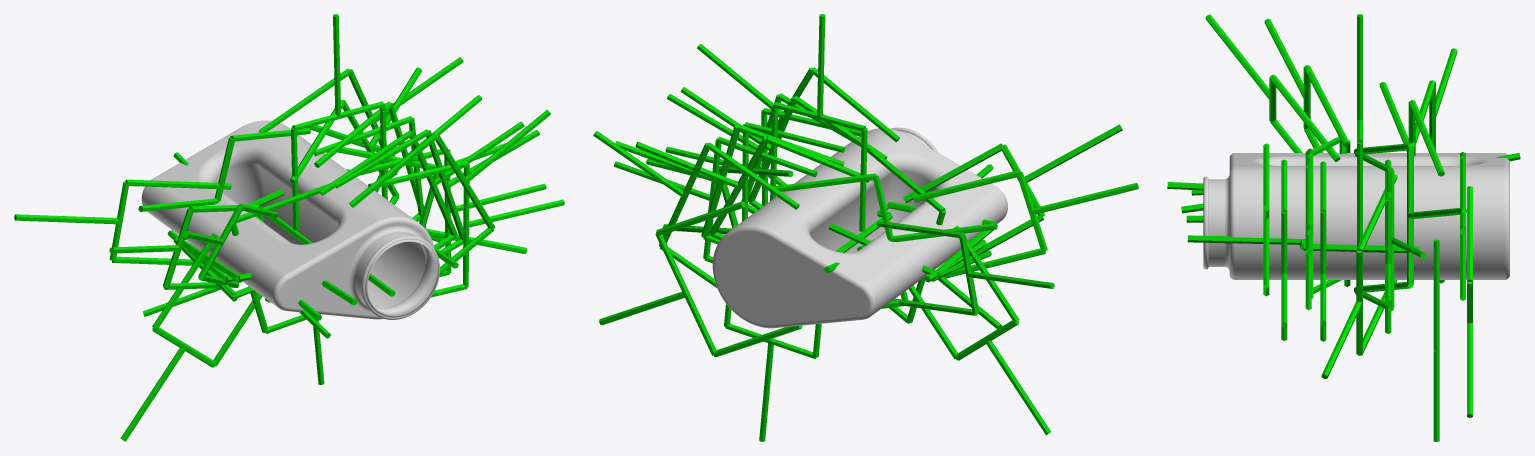
3 views of the same model, side by side, from view 1: azimuth 30°, elevation 25°; view 2: azimuth 150°, elevation 25°; view 3: azimuth 270°, elevation 25° (orthographic). The views are drawn at different scales.
Parts seen in each view (by area): view 1: world, 00569178_9289a0cd4f3ed7de70a07b2e_step_000_0000.obj; view 2: world, 00569178_9289a0cd4f3ed7de70a07b2e_step_000_0000.obj; view 3: 00569178_9289a0cd4f3ed7de70a07b2e_step_000_0000.obj, world.
Part boxes in pixels (box(x1,y1,x2,y2)): world: box(14, 14, 564, 441); 00569178_9289a0cd4f3ed7de70a07b2e_step_000_0000.obj: box(141, 120, 439, 319); world: box(593, 14, 1138, 441); 00569178_9289a0cd4f3ed7de70a07b2e_step_000_0000.obj: box(712, 127, 1007, 328); 00569178_9289a0cd4f3ed7de70a07b2e_step_000_0000.obj: box(1203, 153, 1509, 279); world: box(1167, 14, 1520, 441).
Size of the model in its own units: 318 by 261 by 201.
